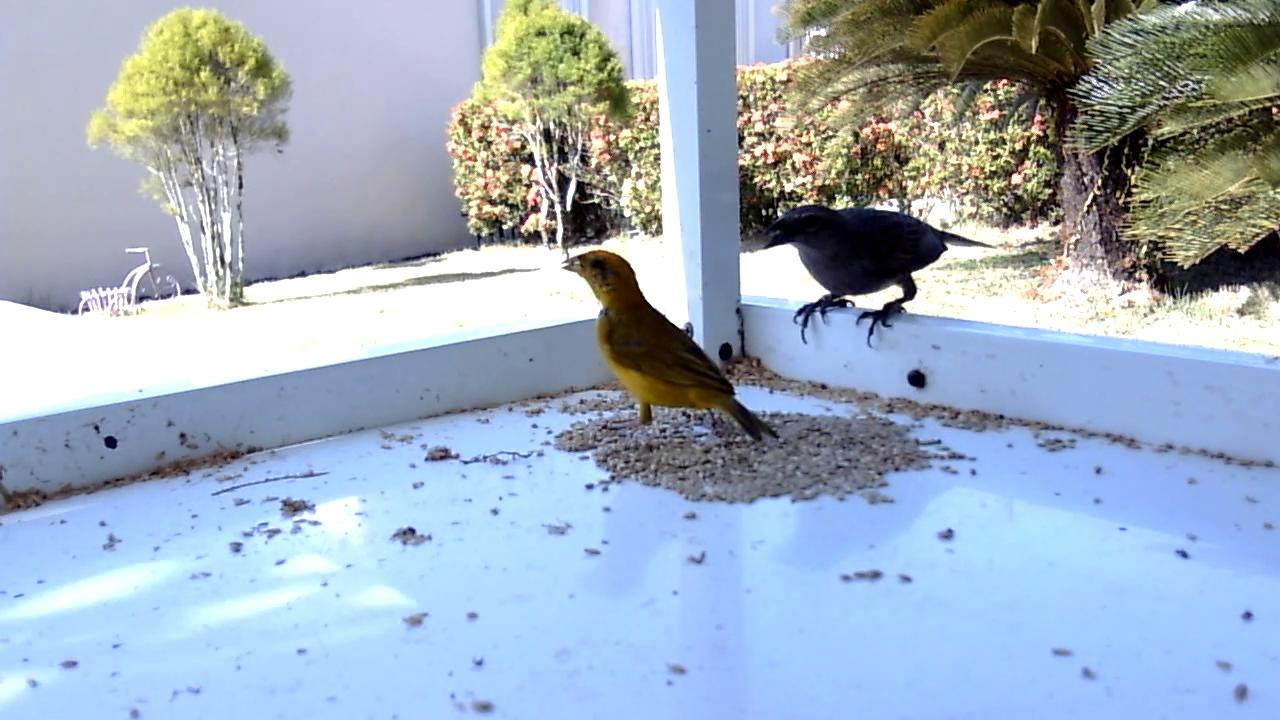canario_do_amazonas: (560, 249, 782, 445)
chupim: (762, 204, 999, 351)
